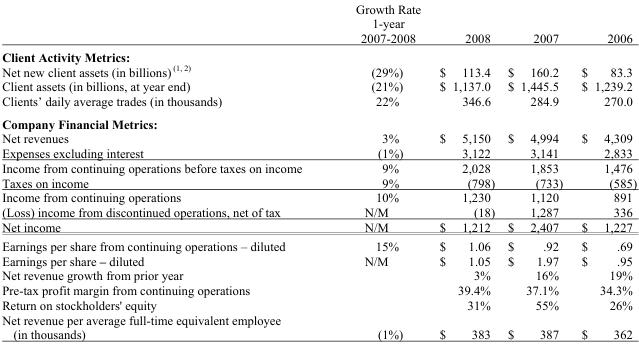table: (1, 1, 636, 341)
table column: (1, 1, 328, 341), (328, 1, 429, 341), (429, 1, 500, 341), (500, 1, 571, 341), (571, 1, 636, 341)
table column header: (1, 1, 636, 47)
table projected row header: (1, 112, 636, 130), (1, 47, 636, 63)
table row: (1, 1, 636, 47), (1, 312, 636, 341), (1, 93, 636, 112), (1, 112, 636, 130), (1, 219, 636, 236), (1, 47, 636, 63), (1, 236, 636, 252), (1, 63, 636, 78), (1, 78, 636, 93), (1, 130, 636, 145), (1, 145, 636, 160), (1, 160, 636, 175), (1, 189, 636, 204), (1, 204, 636, 219), (1, 252, 636, 267), (1, 267, 636, 282), (1, 282, 636, 297), (1, 297, 636, 312), (1, 175, 636, 189)
